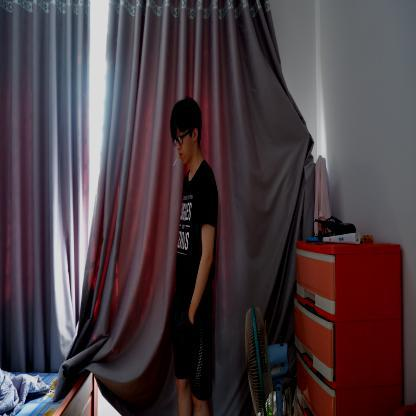cigarette: (172, 155, 180, 167)
person: (168, 95, 220, 415)
